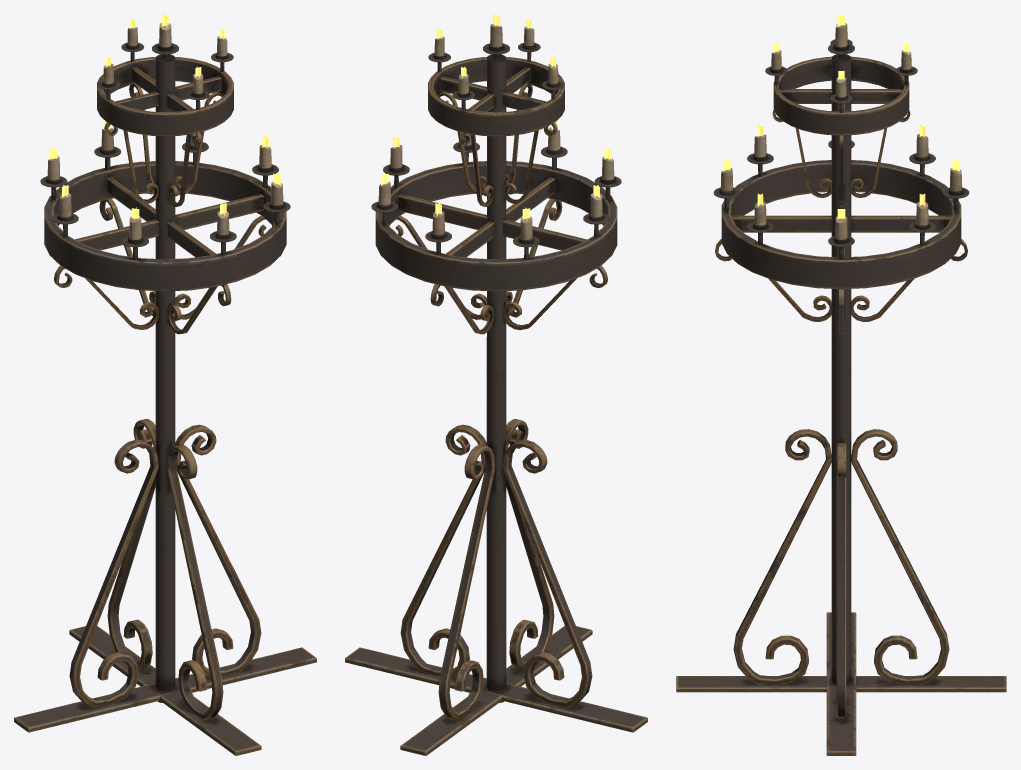
The model's file is pian_medieval_candelabra__free_do.glb.
The picture shows the model from 3 angles, left to right: view 1: azimuth 30°, elevation 25°; view 2: azimuth 150°, elevation 25°; view 3: azimuth 270°, elevation 25°; orthographic projection.
Visible parts, largest first — view 1: defaultMaterial; view 2: defaultMaterial; view 3: defaultMaterial.
Boxes of the visible parts, x1=… form: defaultMaterial: x1=14, y1=14, x2=316, y2=755; defaultMaterial: x1=345, y1=14, x2=647, y2=755; defaultMaterial: x1=676, y1=15, x2=1006, y2=755.
Size of the model in its own units: 0.6631 by 1.5 by 0.6631.
2 materials, 1 textured.
